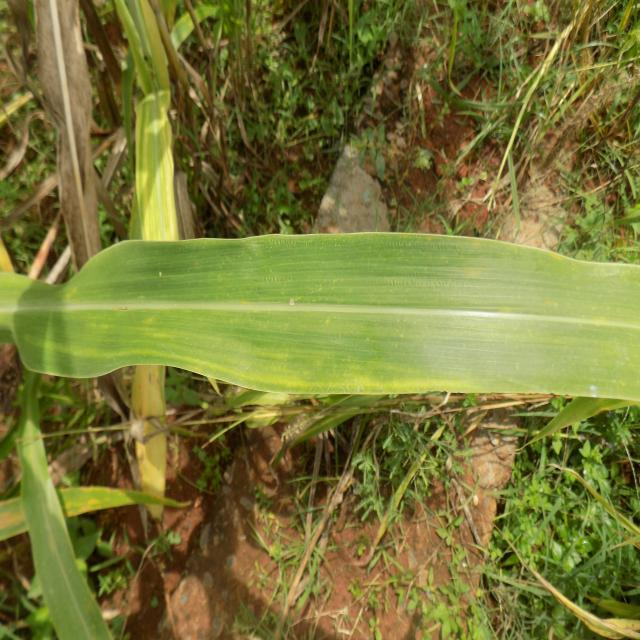millet_healthy: (0, 227, 640, 405)
